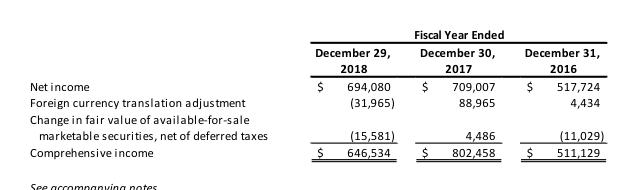table: (29, 28, 603, 158)
table column: (29, 28, 290, 158), (290, 28, 406, 158), (406, 28, 510, 158), (510, 28, 603, 158)
table column header: (29, 28, 603, 77)
table row: (29, 43, 603, 77), (29, 111, 603, 144), (29, 77, 603, 94), (29, 94, 603, 111), (29, 28, 603, 43), (29, 144, 603, 158)
table spanning cell: (290, 28, 603, 43)
